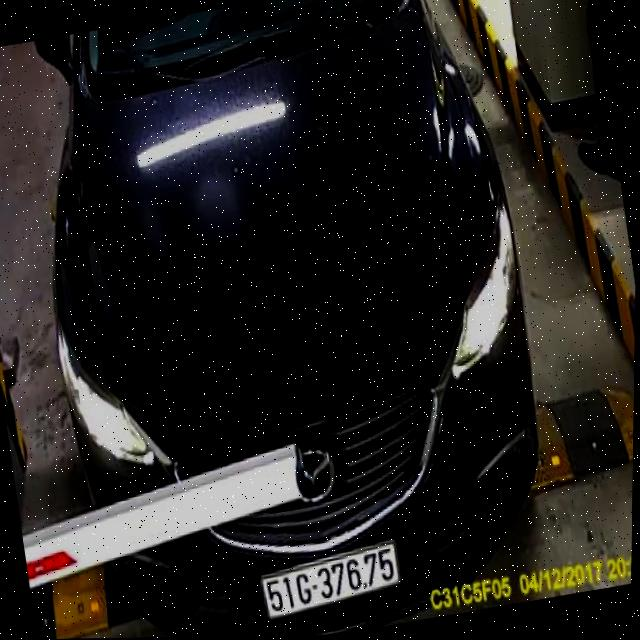car: (3, 0, 574, 640)
plate: (256, 540, 406, 618)
